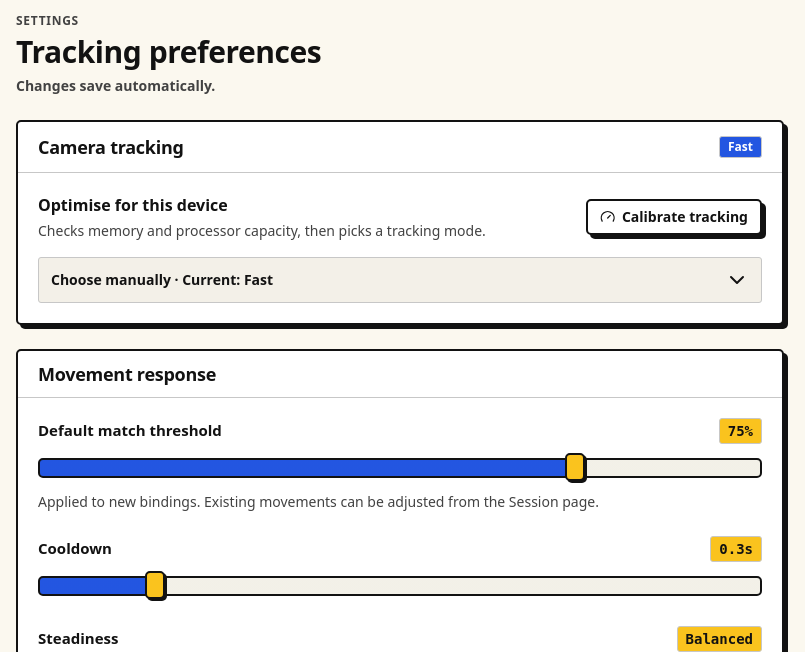
Test case: Settings and accessibility › handles recommendation failure by showing alert and opening manual selection
This screenshot has width=805, height=652.
What coordinates should you click on to do the following:
click the button "Calibrate tracking"
I would click on:
 (674, 217)
Its box is x1=586 y1=199 x2=762 y2=235.
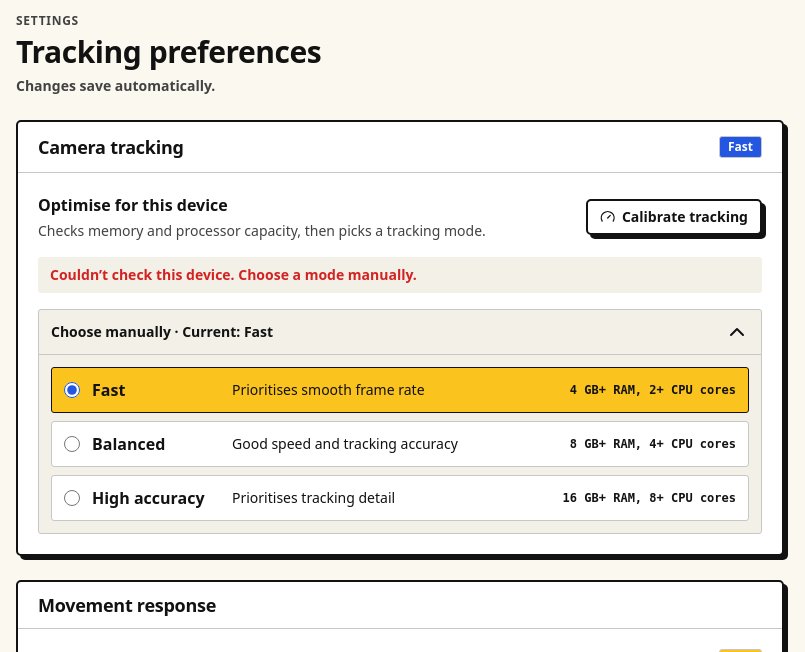
expect the message "Couldn’t check this device. Choose a mode manually." is shown: met, box x1=38 y1=257 x2=762 y2=293
